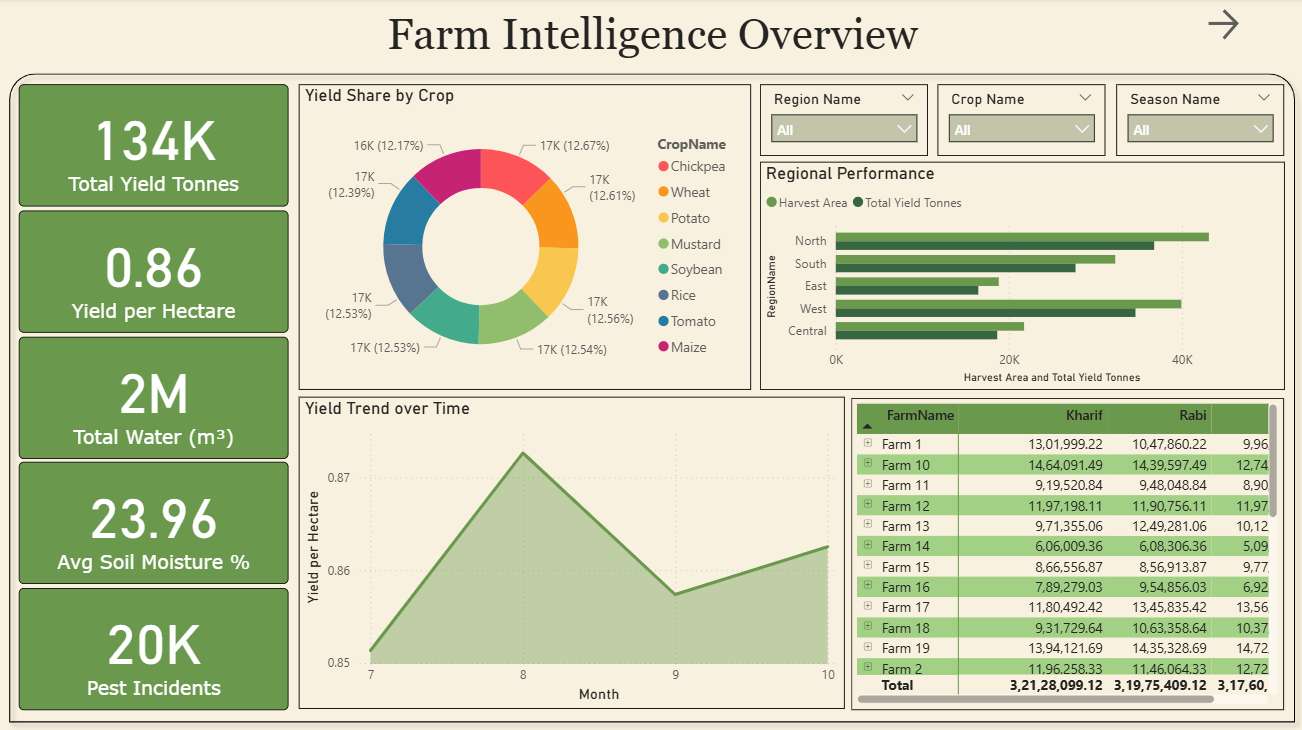

What the dashboard file says about the page in this screenshot:
{"tool":"powerbi","page":{"name":"Farm Overview","canvas":[1280,720],"ordinal":0},"visuals":[{"type":"shape","box":[0,65,1280.2,655],"z":0},{"type":"card","fields":{"Values":["FactCropYield.Total Yield Tonnes"]},"box":[18.4,84.4,265,120],"z":1000},{"type":"card","fields":{"Values":["FactCropYield.Yield per Hectare"]},"box":[18.4,208.2,265,120],"z":2000},{"type":"card","fields":{"Values":["FactIrrigation.Total Water (m³)"]},"box":[18.4,332,265,120],"z":3000},{"type":"card","fields":{"Values":["FactSoilTelemetry.Avg Soil Moisture %"]},"box":[18.4,454.9,265,120],"z":4000},{"type":"card","fields":{"Values":["FactPestIncidents.Pest Incidents"]},"box":[18.4,578.7,265,120],"z":5000},{"type":"clusteredBarChart","title":"Regional Performance","fields":{"Y":["FactCropYield.Harvest Area","FactCropYield.Total Yield Tonnes"],"Category":["DimRegion.RegionName"]},"box":[745.5,160.7,515.4,223.9],"z":6000},{"type":"areaChart","title":"Yield Trend over Time","fields":{"Y":["FactCropYield.Yield per Hectare"],"Category":["DimDateTime.Month"]},"box":[293.3,391.6,535.6,306.4],"z":7000},{"type":"slicer","fields":{"Values":["DimRegion.RegionName"]},"box":[745.5,84.3,165,70.2],"z":8000},{"type":"slicer","fields":{"Values":["DimCrop.CropName"]},"box":[920.2,84.3,165.1,70.2],"z":9000},{"type":"slicer","fields":{"Values":["DimSeason.SeasonName"]},"box":[1095.8,84.3,165.1,70.2],"z":10000},{"type":"donutChart","title":"Yield Share by Crop","fields":{"Category":["DimCrop.CropName"],"Y":["FactCropYield.Total Yield Tonnes"]},"box":[293.3,84.3,444.3,300.3],"z":11000},{"type":"pivotTable","fields":{"Rows":["DimFarm.FarmName","DimCrop.CropName"],"Values":["FactFieldOperations.Gross Margin"],"Columns":["DimSeason.SeasonName"]},"box":[835.9,392.5,425,306.4],"z":12000},{"type":"textbox","box":[362.6,6.1,554.9,65],"z":13000},{"type":"actionButton","box":[1179.9,6.3,100.1,39.7],"z":13001}]}

Visuals, with their boxes in screenshot pixels (x1, y1, x2, y2), scaled from the page's 1280x720 canvas onto the 1302x730 screenshot:
shape: x1=0 y1=66 x2=1301 y2=729
card - FactCropYield.Total Yield Tonnes: x1=19 y1=86 x2=288 y2=207
card - FactCropYield.Yield per Hectare: x1=19 y1=211 x2=288 y2=333
card - FactIrrigation.Total Water (m³): x1=19 y1=337 x2=288 y2=458
card - FactSoilTelemetry.Avg Soil Moisture %: x1=19 y1=461 x2=288 y2=583
card - FactPestIncidents.Pest Incidents: x1=19 y1=587 x2=288 y2=708
"Regional Performance" clusteredBarChart: x1=758 y1=163 x2=1283 y2=390
"Yield Trend over Time" areaChart: x1=298 y1=397 x2=843 y2=708
slicer - DimRegion.RegionName: x1=758 y1=85 x2=926 y2=157
slicer - DimCrop.CropName: x1=936 y1=85 x2=1104 y2=157
slicer - DimSeason.SeasonName: x1=1115 y1=85 x2=1283 y2=157
"Yield Share by Crop" donutChart: x1=298 y1=85 x2=750 y2=390
pivotTable - DimFarm.FarmName x DimCrop.CropName: x1=850 y1=398 x2=1283 y2=709
textbox: x1=369 y1=6 x2=933 y2=72
actionButton: x1=1200 y1=6 x2=1301 y2=47
